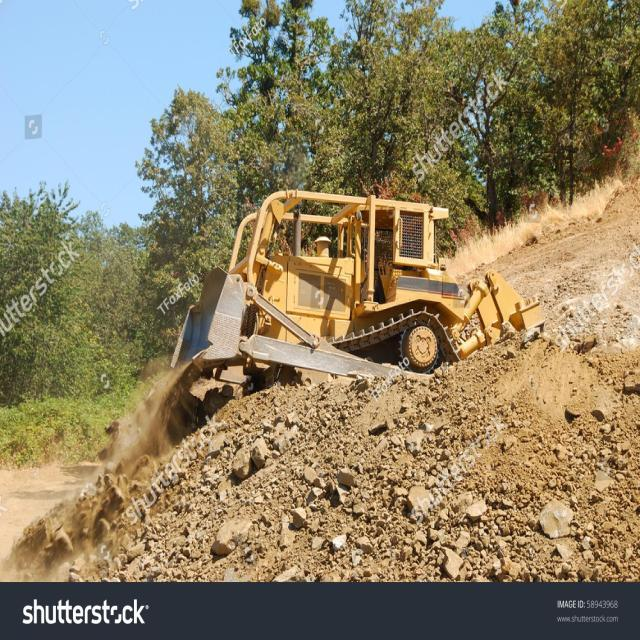buldozerpayloadergrader: (130, 173, 603, 475)
